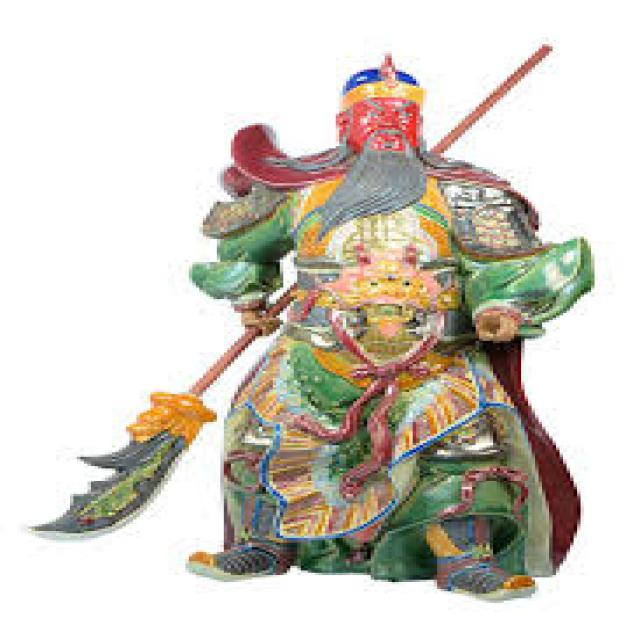Guan Yu: (211, 56, 540, 429)
